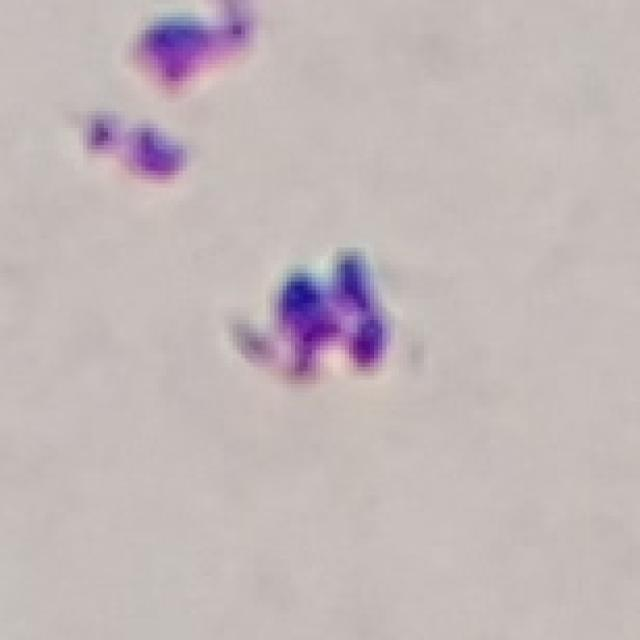non-sperm: (225, 244, 398, 386)
